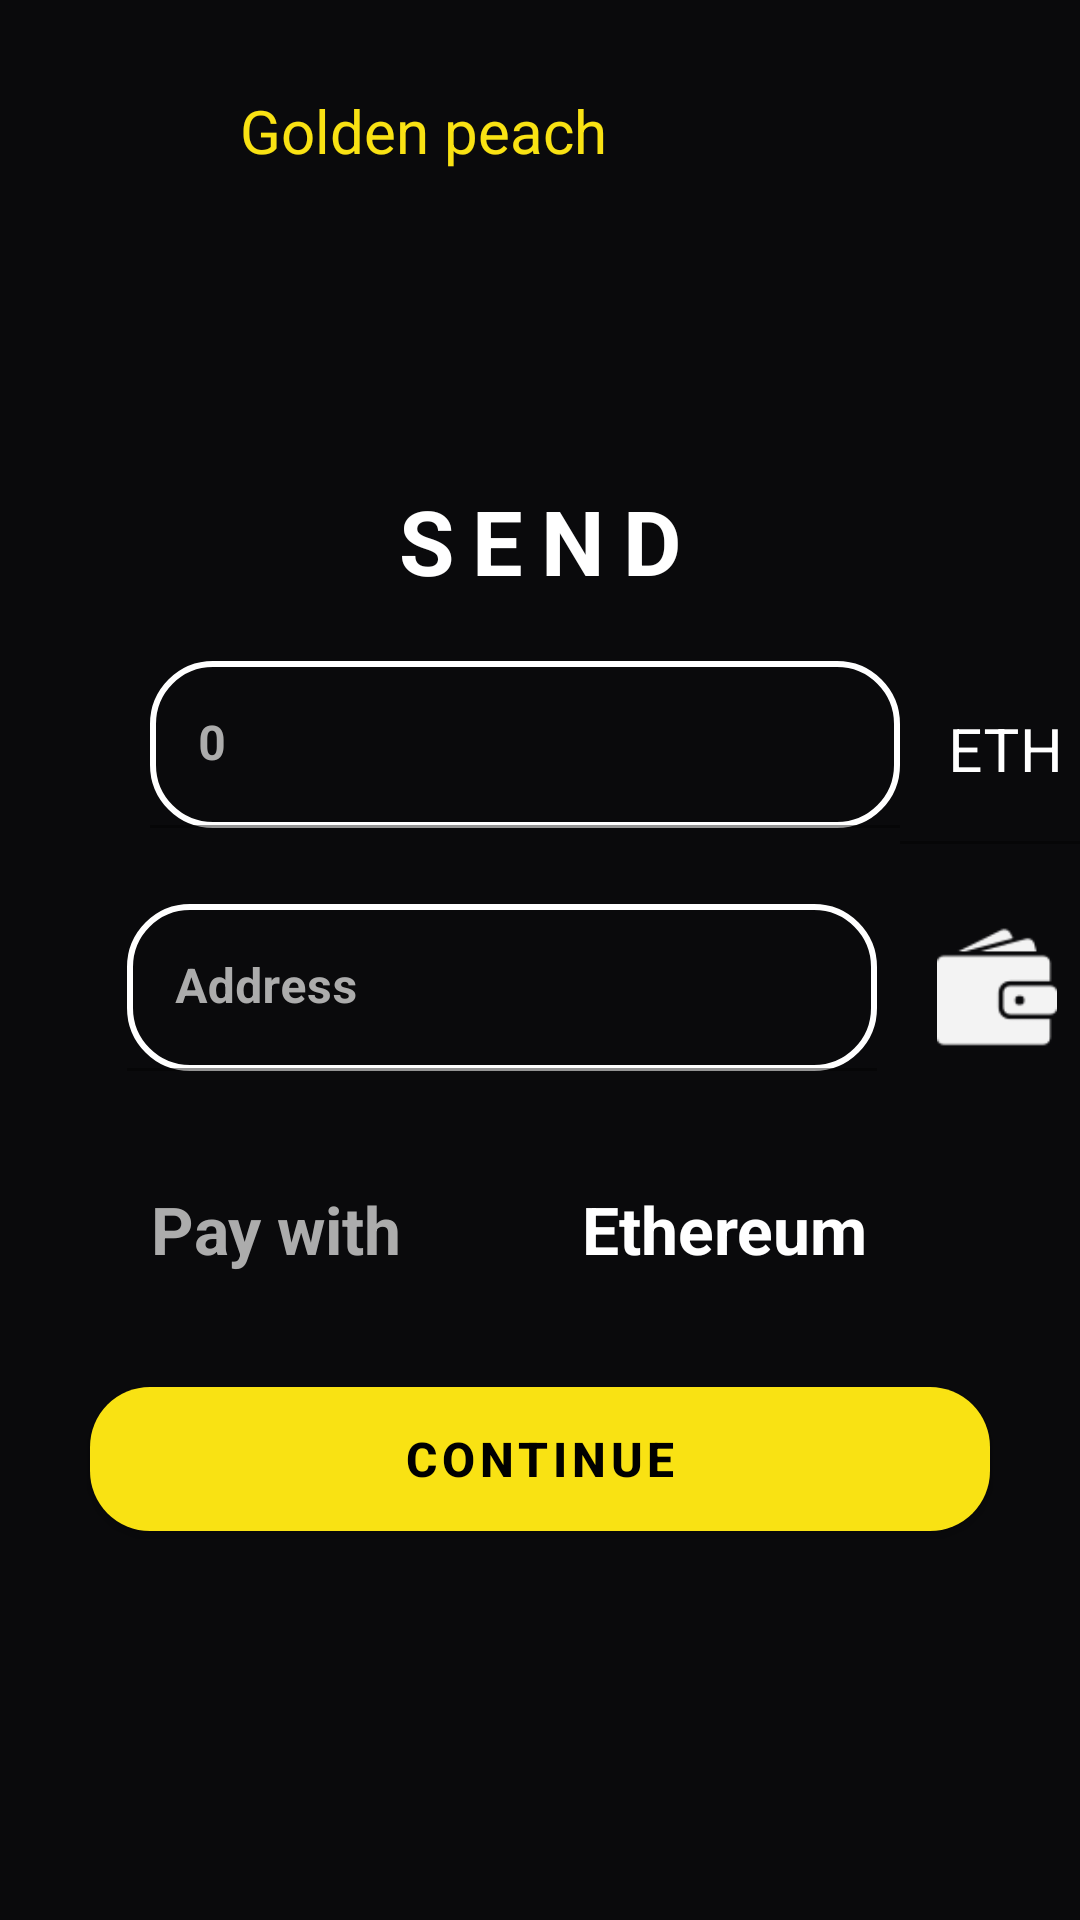

Screen size 1080 × 1920. Icon name, then its box in pixels as (x1, y1, x2, y2):
wallet: (937, 928, 1057, 1046)
